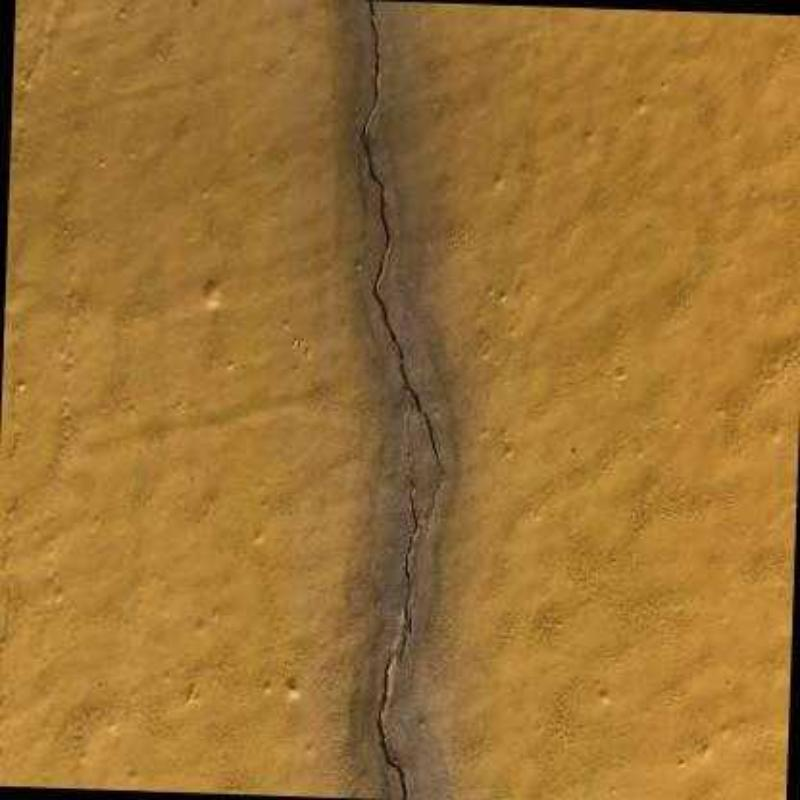pothole: (362, 0, 443, 514), (377, 460, 417, 800)
